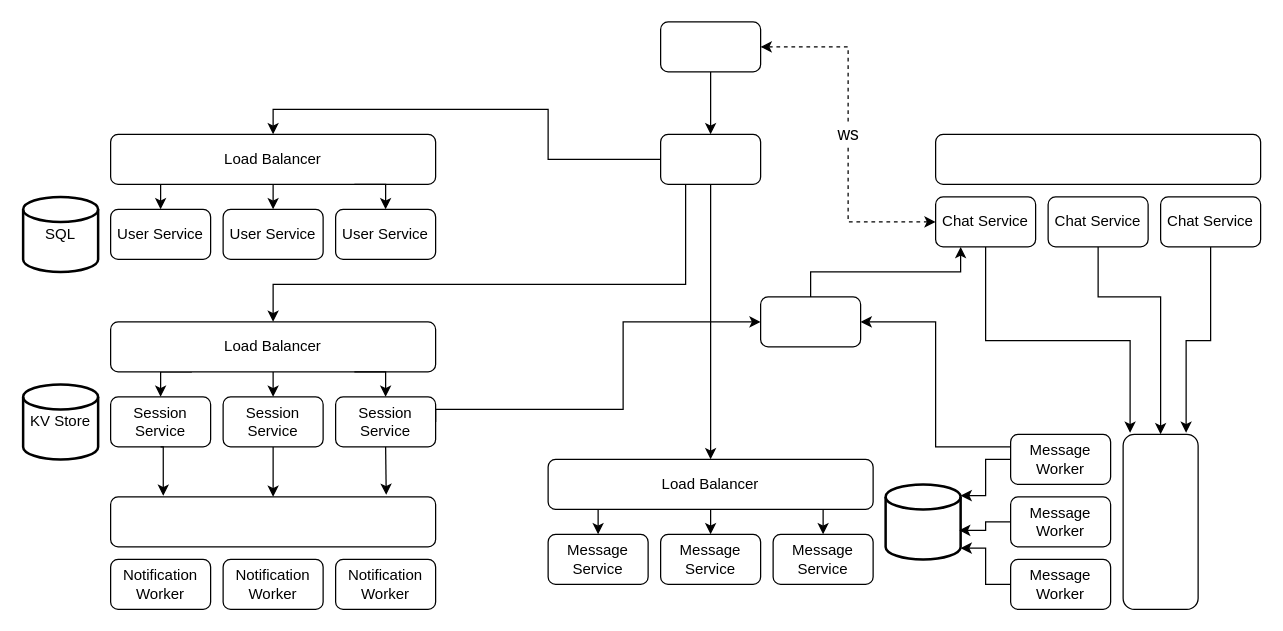
Some shapes in this 1283 by 631 pixel diagram are drawn without their labels. The shapes that lost their labels are listed below. From the top down, each one's centre as x and y in pixels, then its label:
point (710, 46): Chat UI
point (710, 158): gRPC Proxy
point (1097, 158): Service Discovery
point (810, 321): User Queue
point (272, 521): Notification Queue
point (922, 521): NoSQL
point (1160, 521): Message Queue
